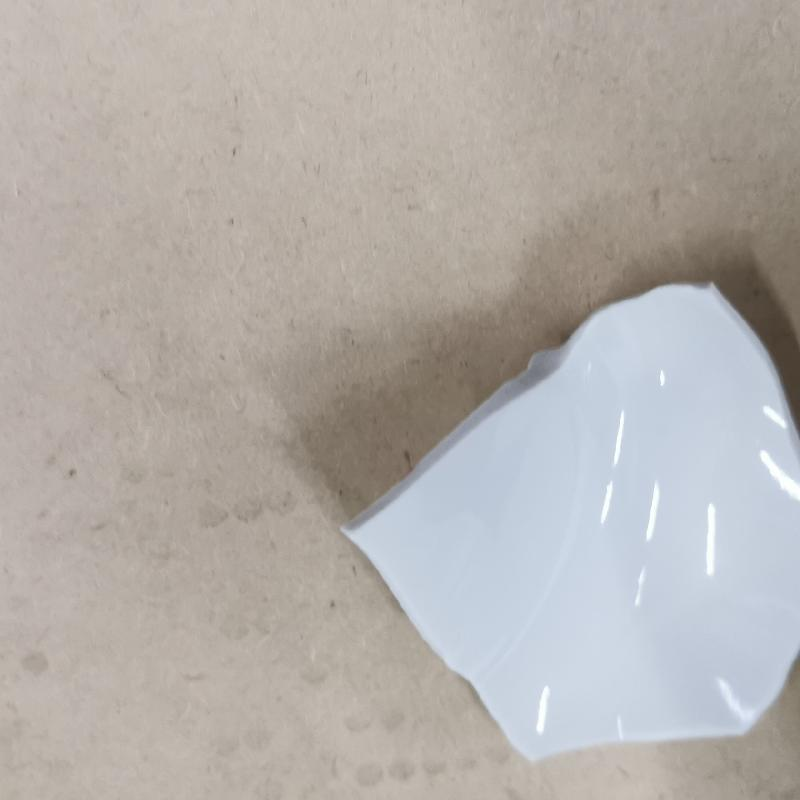ceram: (334, 276, 800, 768)
